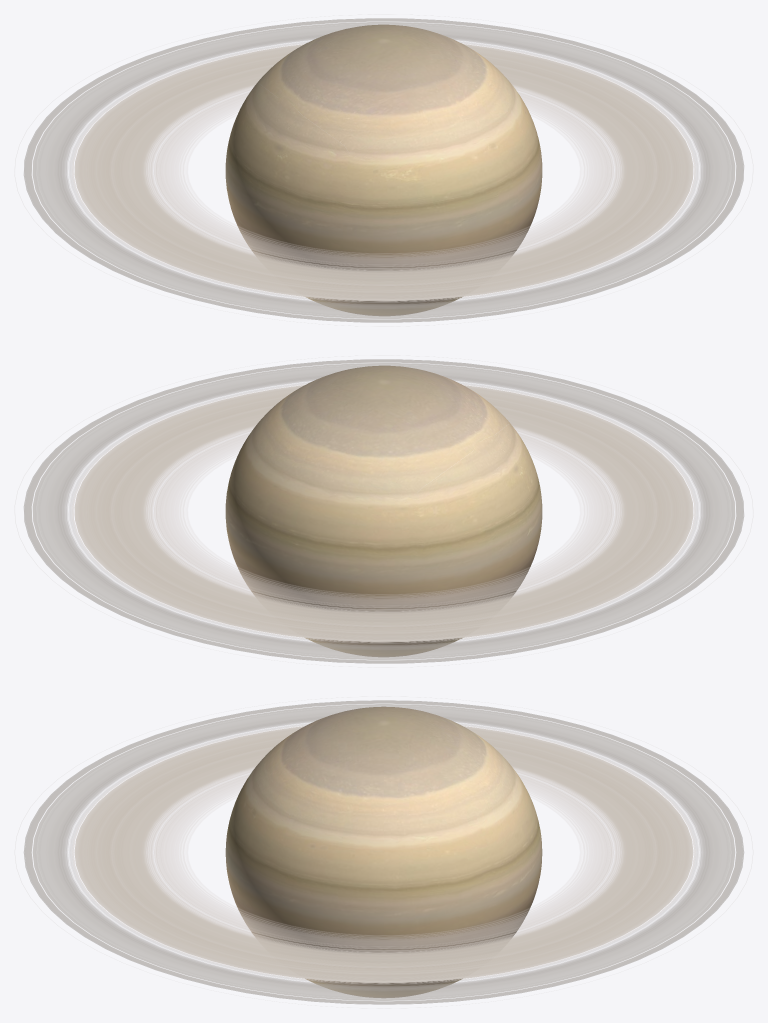
File: saturn.glb
3 renders of one model, top to bottom at view 1: azimuth 30°, elevation 25°; view 2: azimuth 150°, elevation 25°; view 3: azimuth 270°, elevation 25°, orthographic.
Parts seen in each view (by area): view 1: Saturn_rings_RingsTop, Saturn_surface_Saturn.001; view 2: Saturn_rings_RingsTop, Saturn_surface_Saturn.001; view 3: Saturn_rings_RingsTop, Saturn_surface_Saturn.001.
Part boxes in pixels (x1,y1,x2,y2): Saturn_rings_RingsTop: (23,18,744,322); Saturn_surface_Saturn.001: (225,24,542,315); Saturn_rings_RingsTop: (23,359,744,663); Saturn_surface_Saturn.001: (225,365,542,656); Saturn_rings_RingsTop: (23,700,744,1004); Saturn_surface_Saturn.001: (225,706,542,997).
Size of the model in its own units: 4.66 by 1.8 by 4.66.
Materials: 2 (2 with a texture image).
